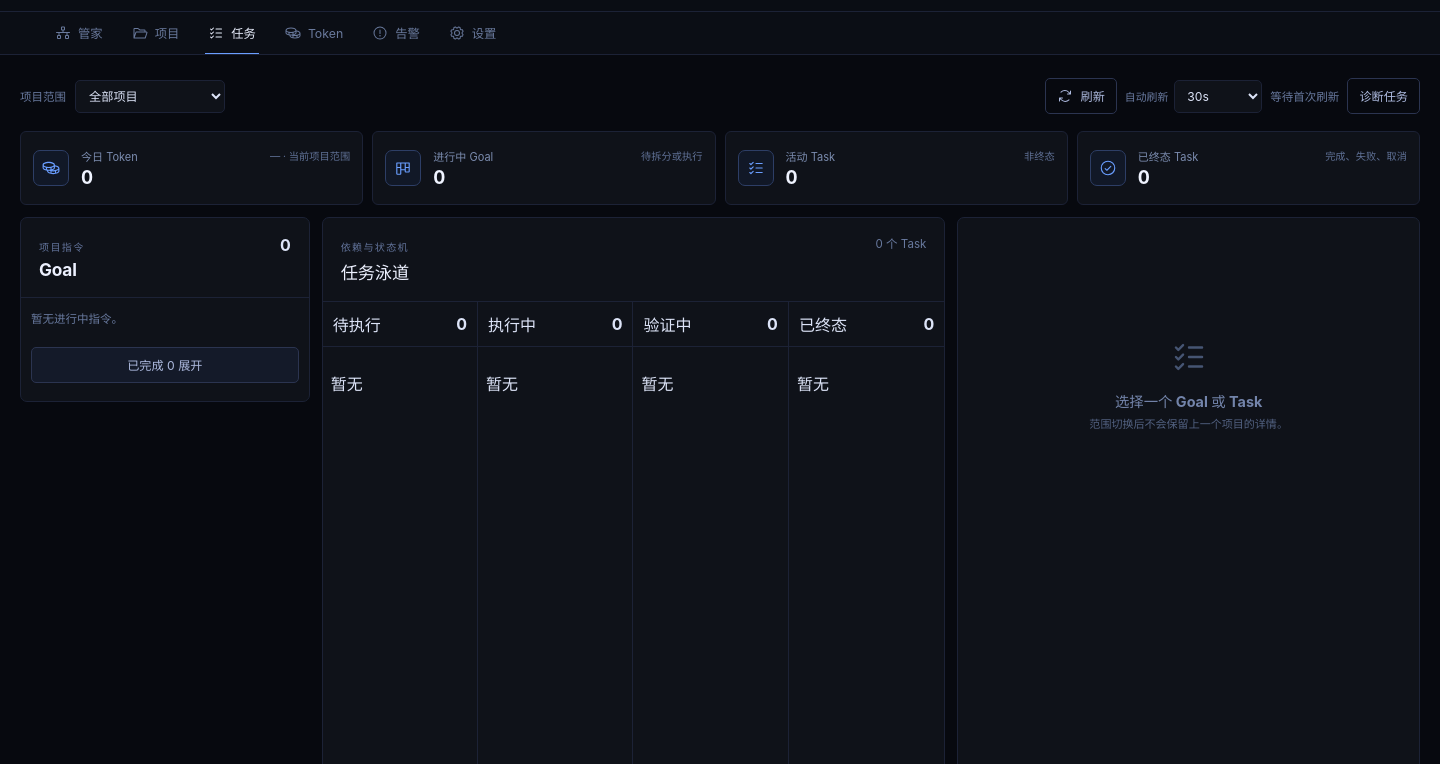
Test: exposes the six settings domains without top-level worker/provider pages
Click the button "设置" at [473, 33], box top-left (436, 12), bottom-right (509, 54)
(page scrolled)
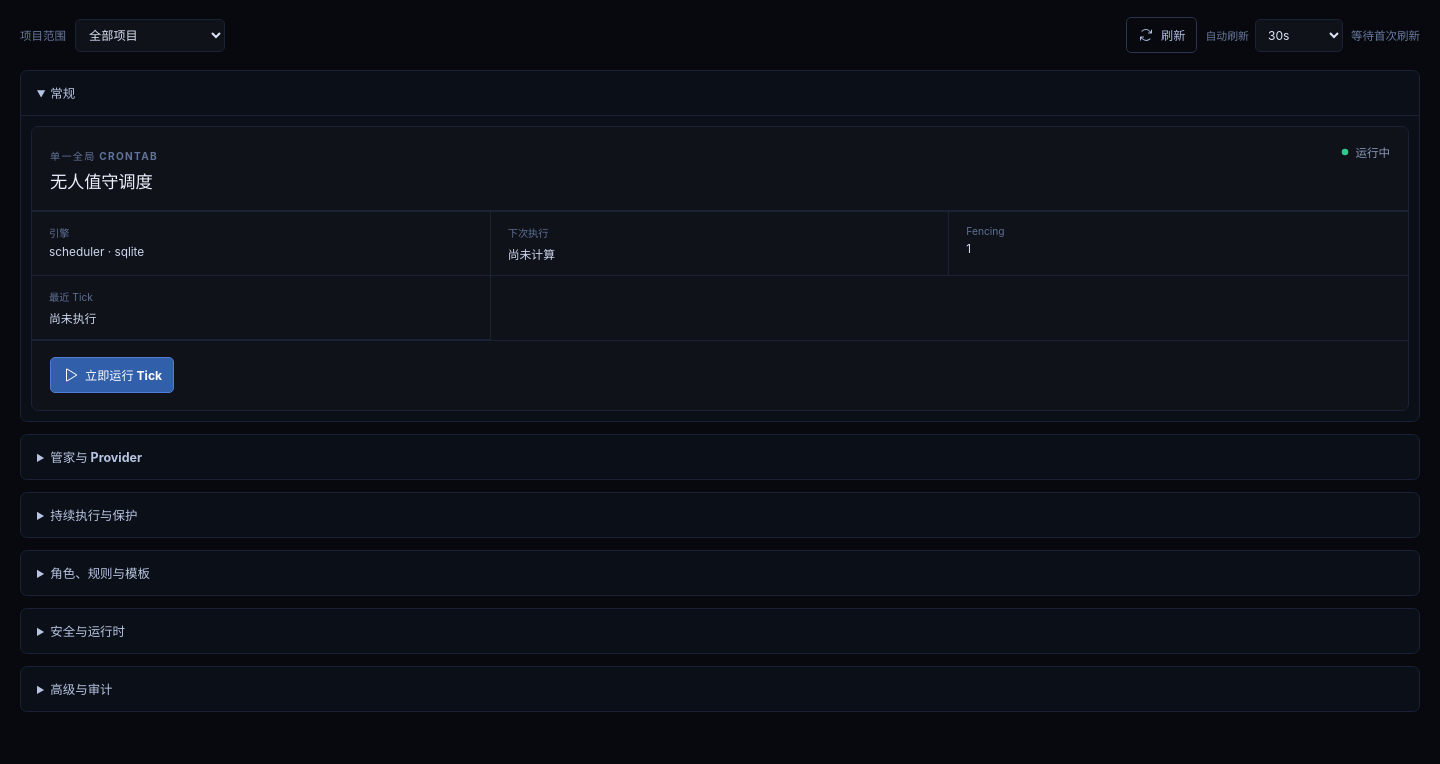
Check: the heading "常规" is shown, box top-left (21, 71), bottom-right (1419, 116)
Check: the heading "管家与 Provider" is shown, box top-left (50, 450), bottom-right (142, 465)
Check: the heading "持续执行与保护" is shown, box top-left (50, 508), bottom-right (138, 523)
